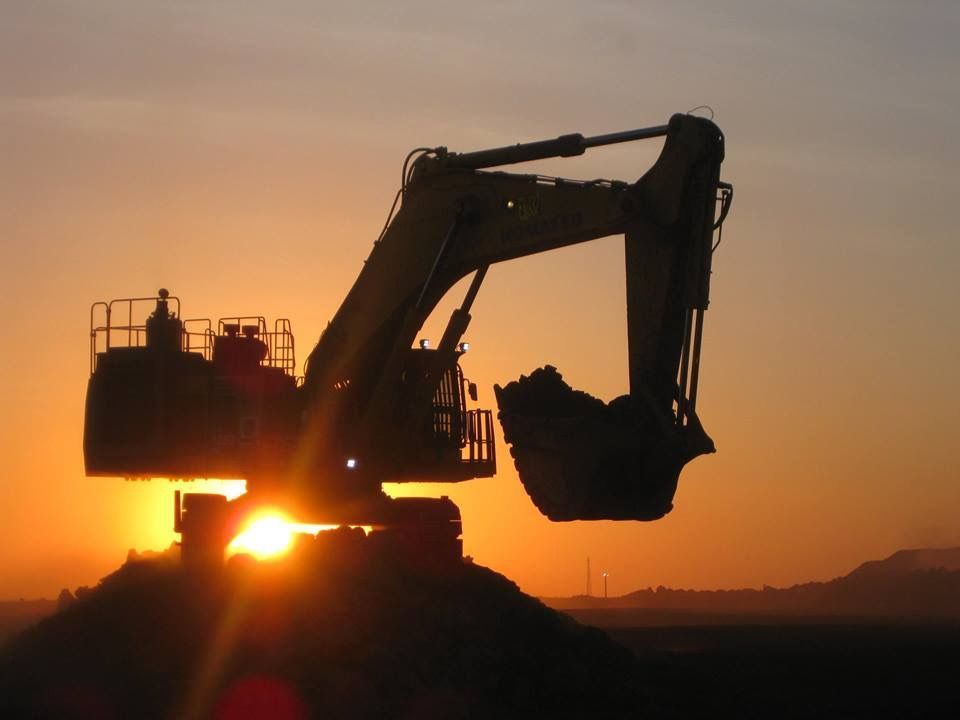excavator: (60, 104, 809, 552)
